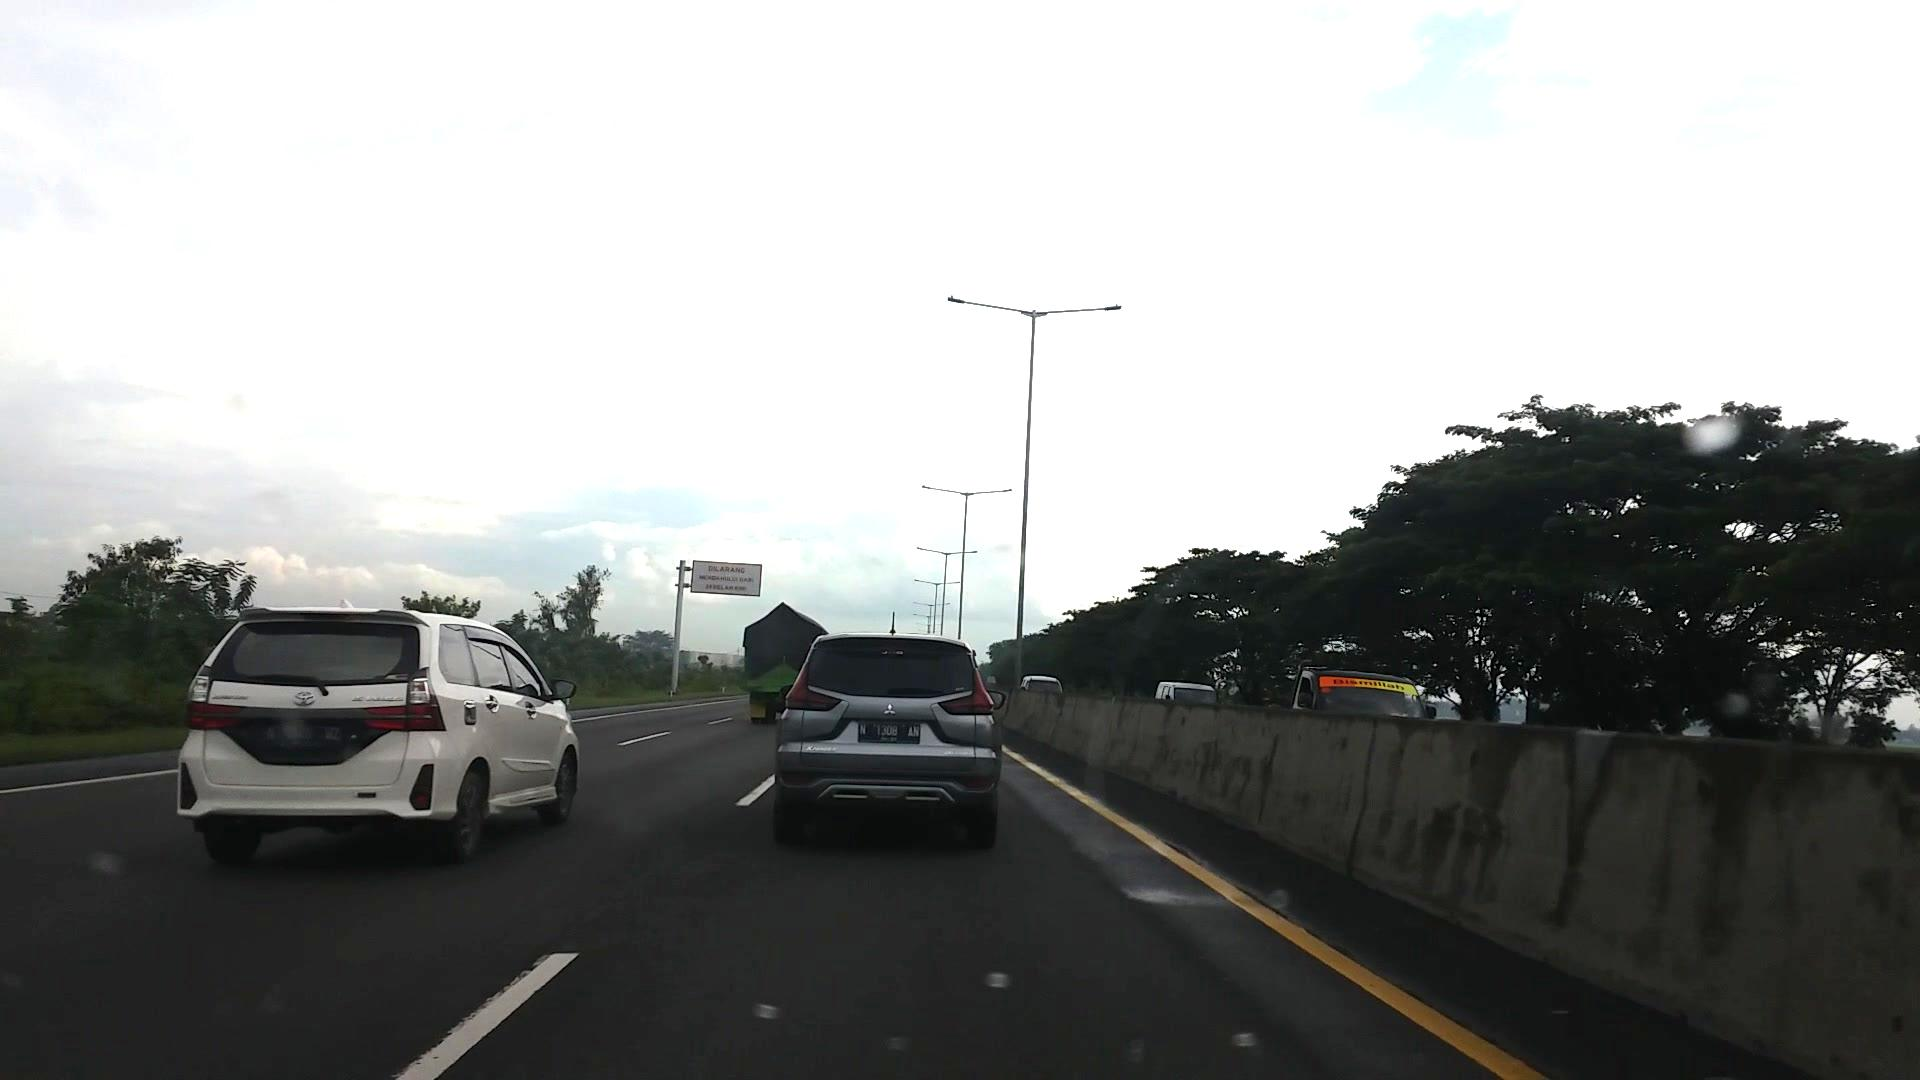plate_positive: (858, 720, 920, 742)
